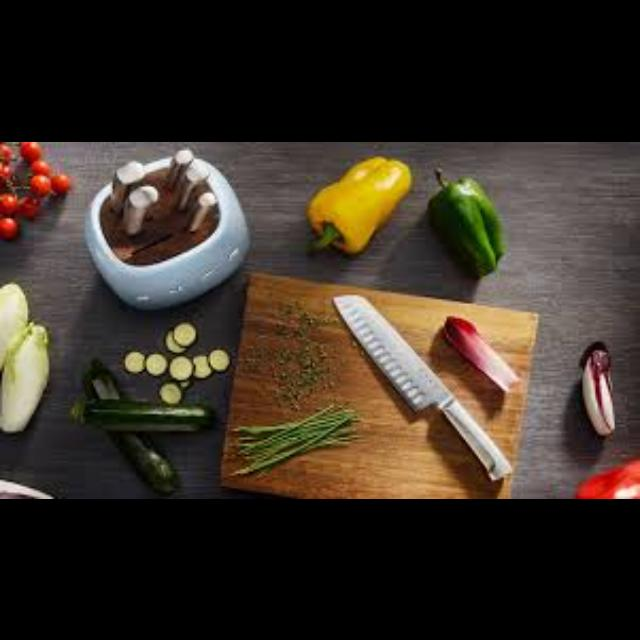knife: (330, 292, 512, 480)
